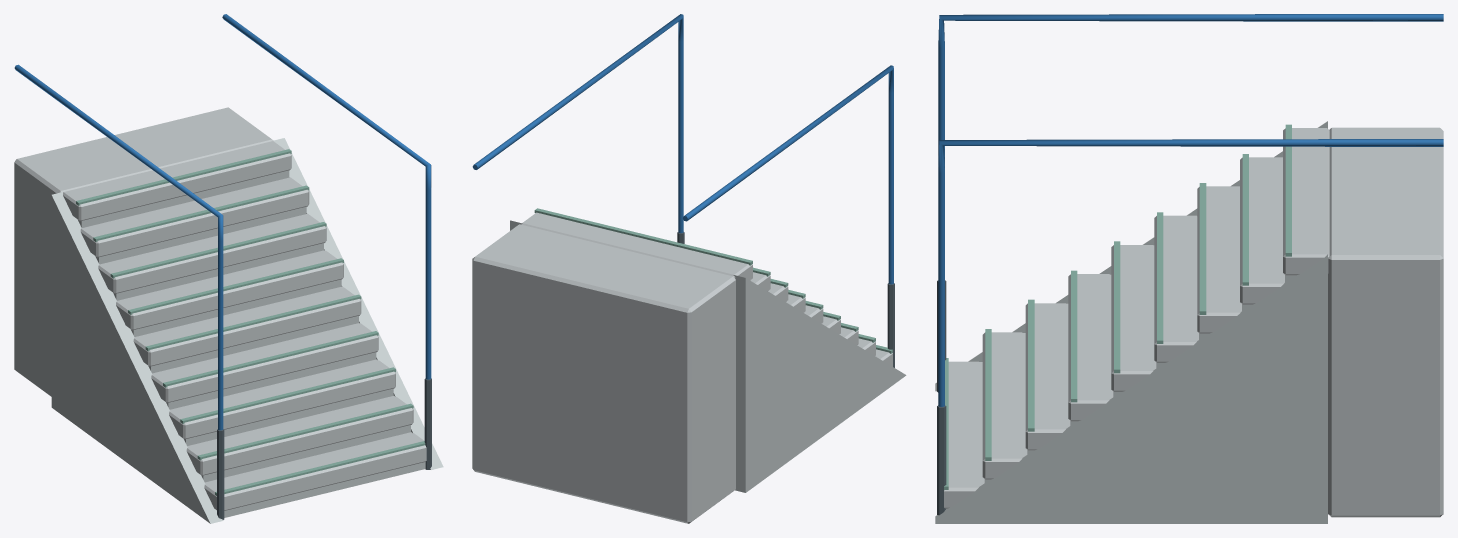
The model's file is stairs_up.fbx.
3 renders of one model, left to right at view 1: azimuth 30°, elevation 25°; view 2: azimuth 150°, elevation 25°; view 3: azimuth 270°, elevation 25°, orthographic. The views are drawn at different scales.
Parts seen in each view (by area): view 1: stairs_up; view 2: stairs_up; view 3: stairs_up.
Part boxes in pixels (box(x1,y1,x2,y2)): stairs_up: box(14, 14, 443, 523); stairs_up: box(472, 14, 906, 523); stairs_up: box(935, 14, 1443, 523).
Size of the model in its own units: 2.58 by 3.23 by 3.95.
